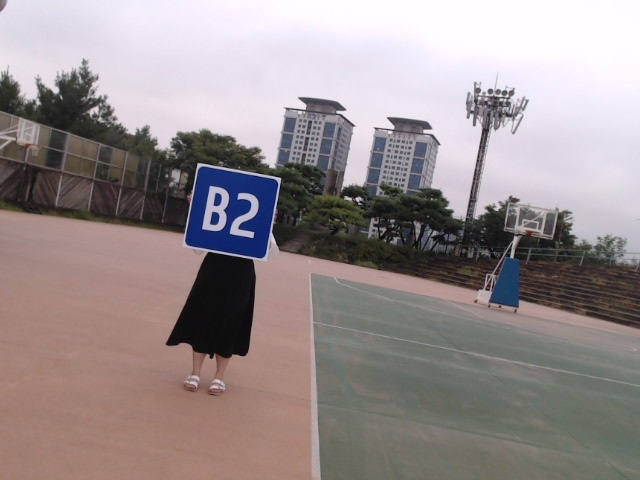delivery_b2: (183, 164, 279, 260)
